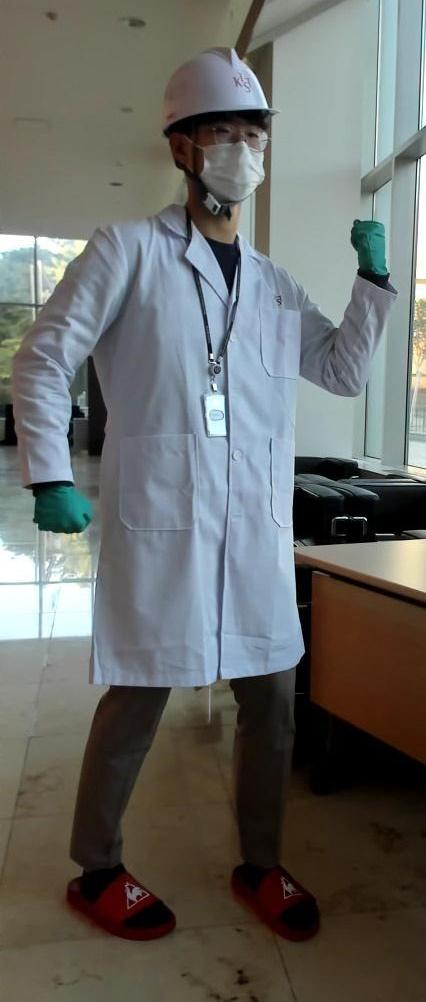lab_coat: (99, 224, 309, 678)
